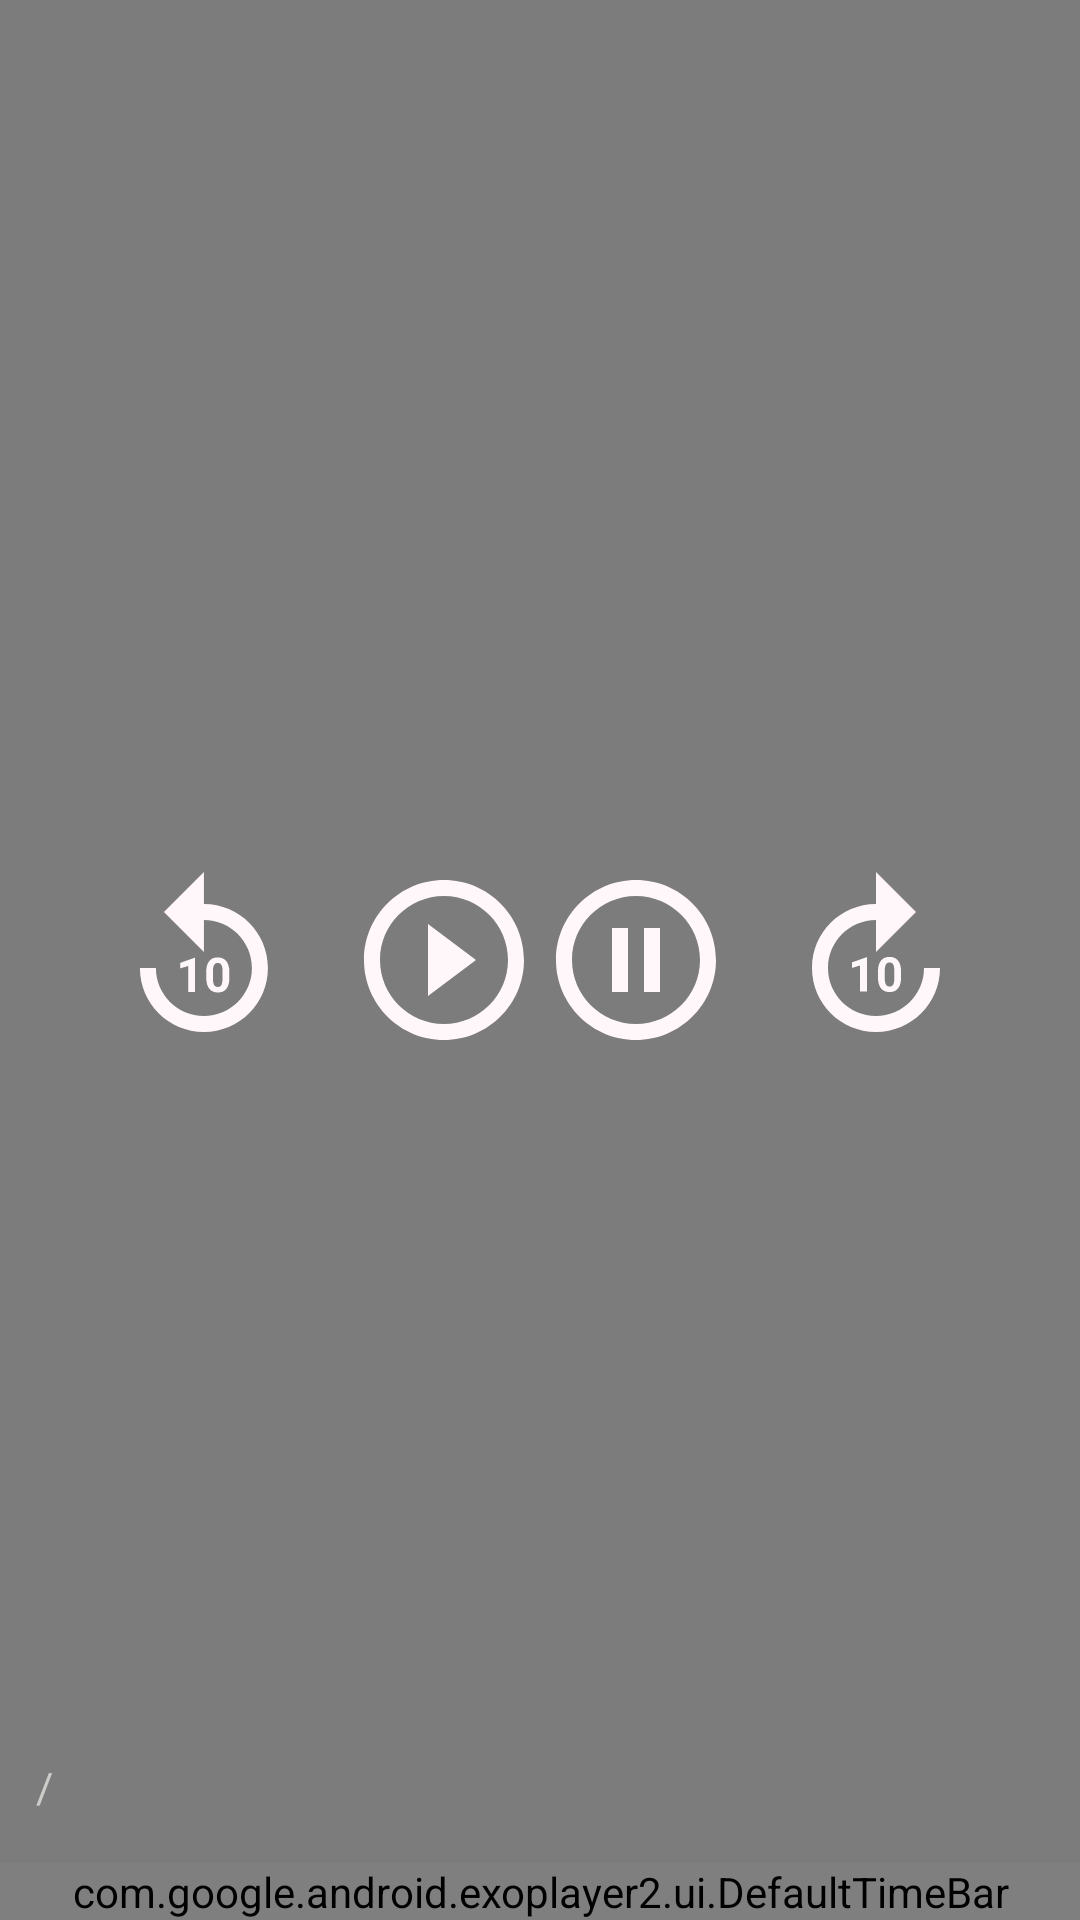

Icons on this 1080 x 1920 Android screen, each with its box as Rect(x1, y1, x2, y2):
forward: Rect(812, 872, 940, 1032)
pause: Rect(556, 880, 716, 1040)
play: Rect(364, 880, 524, 1040)
rew: Rect(140, 872, 268, 1032)
